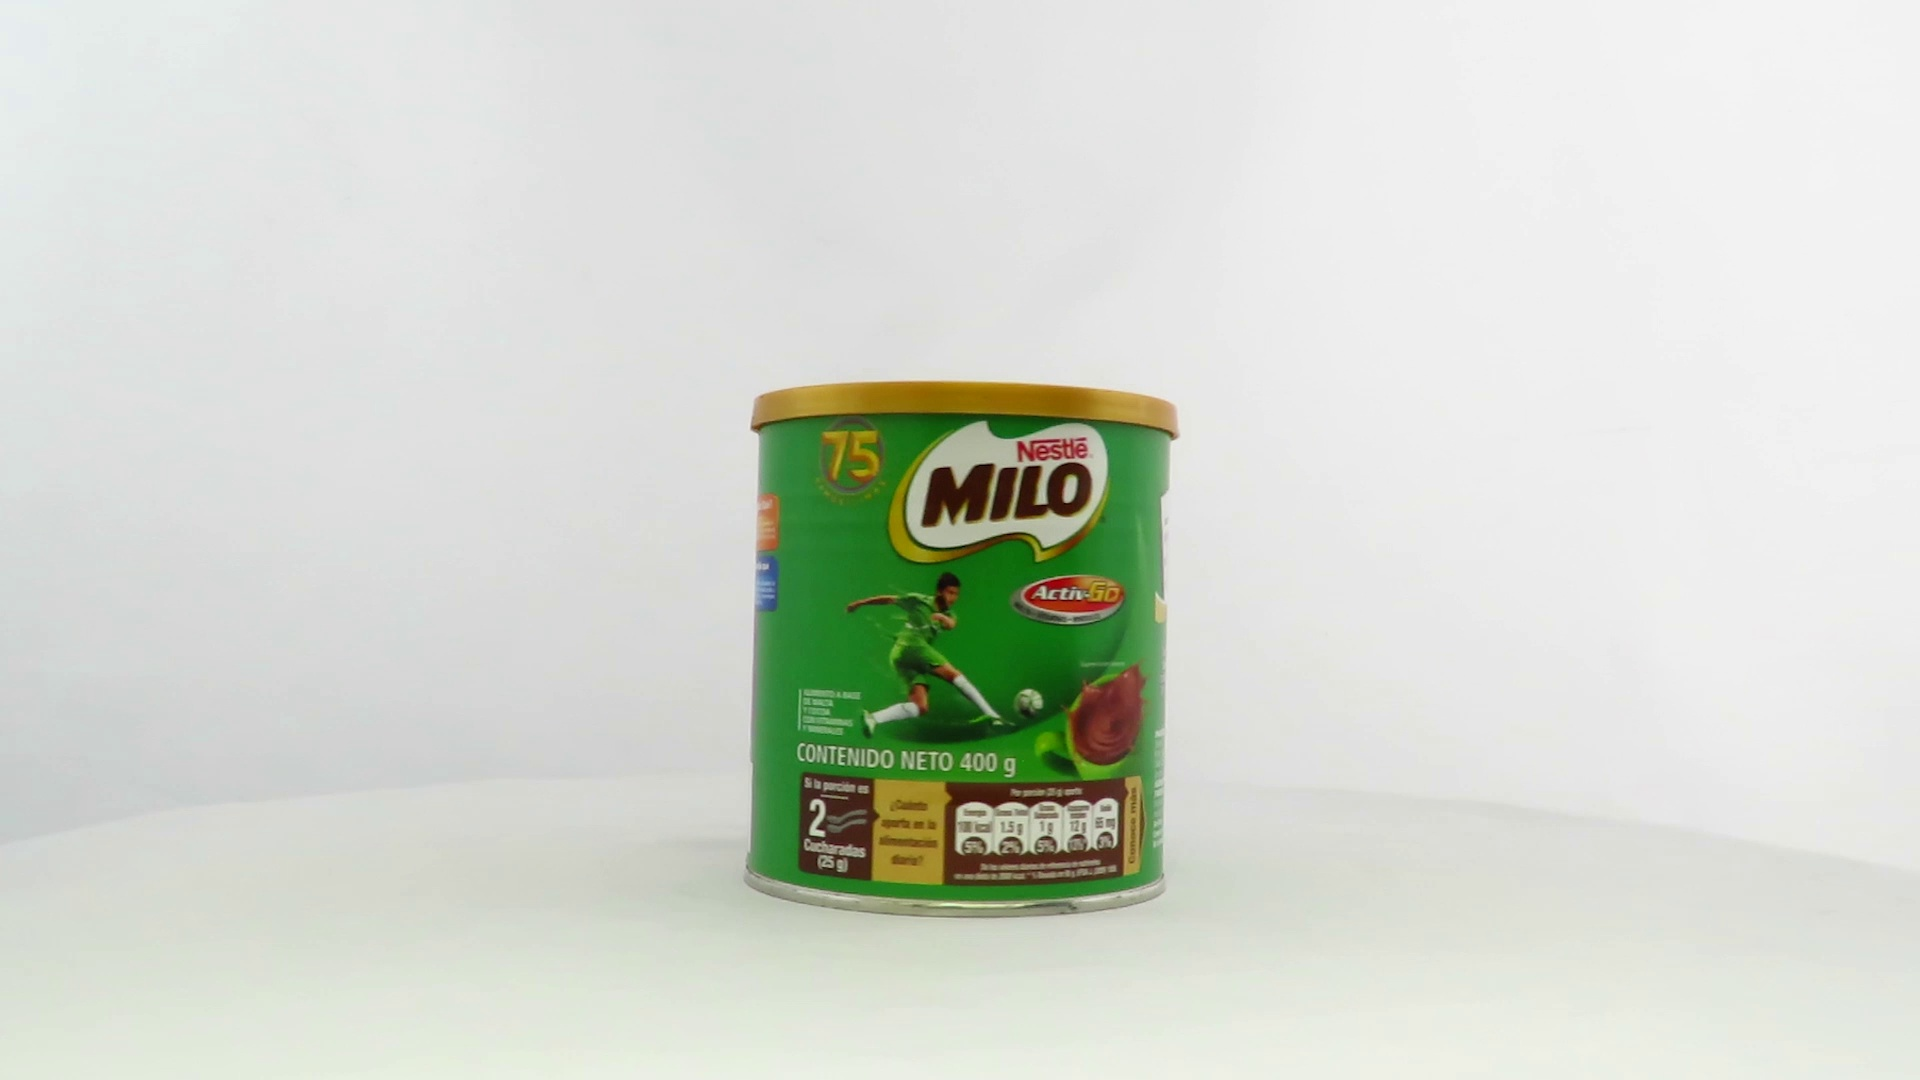COL0170203LAT40000: (738, 376, 1185, 924)
